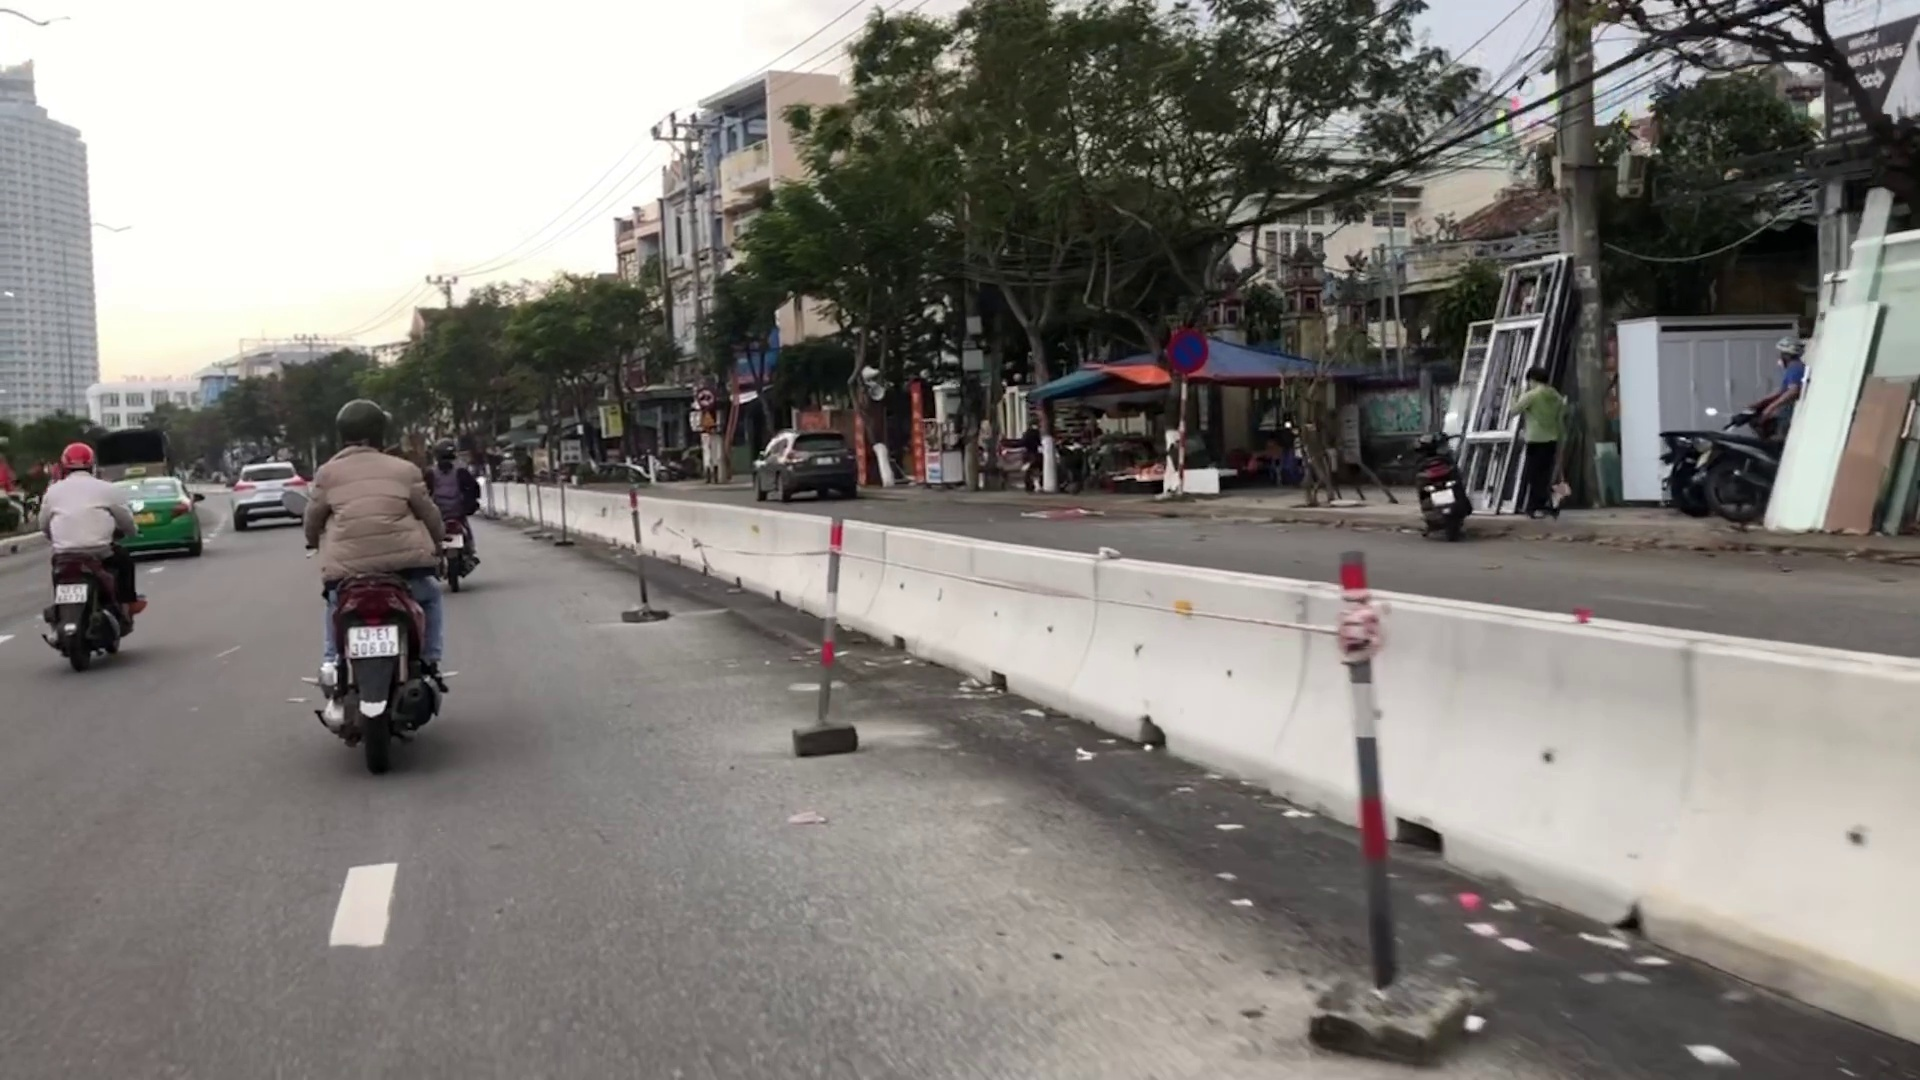Cam do xe: (1164, 327, 1211, 378)
